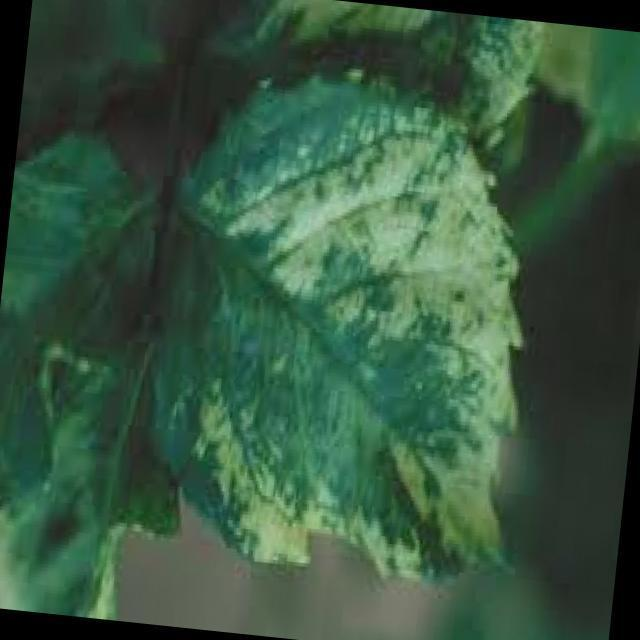Mosaic Virus: (182, 114, 542, 577)
